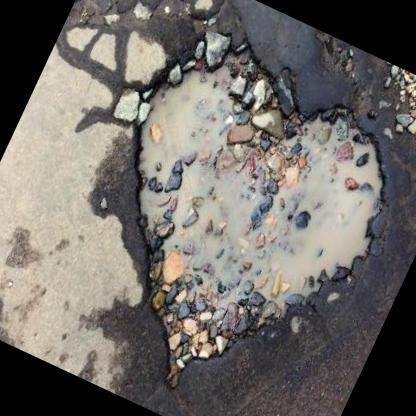pothole: (33, 5, 416, 416)
